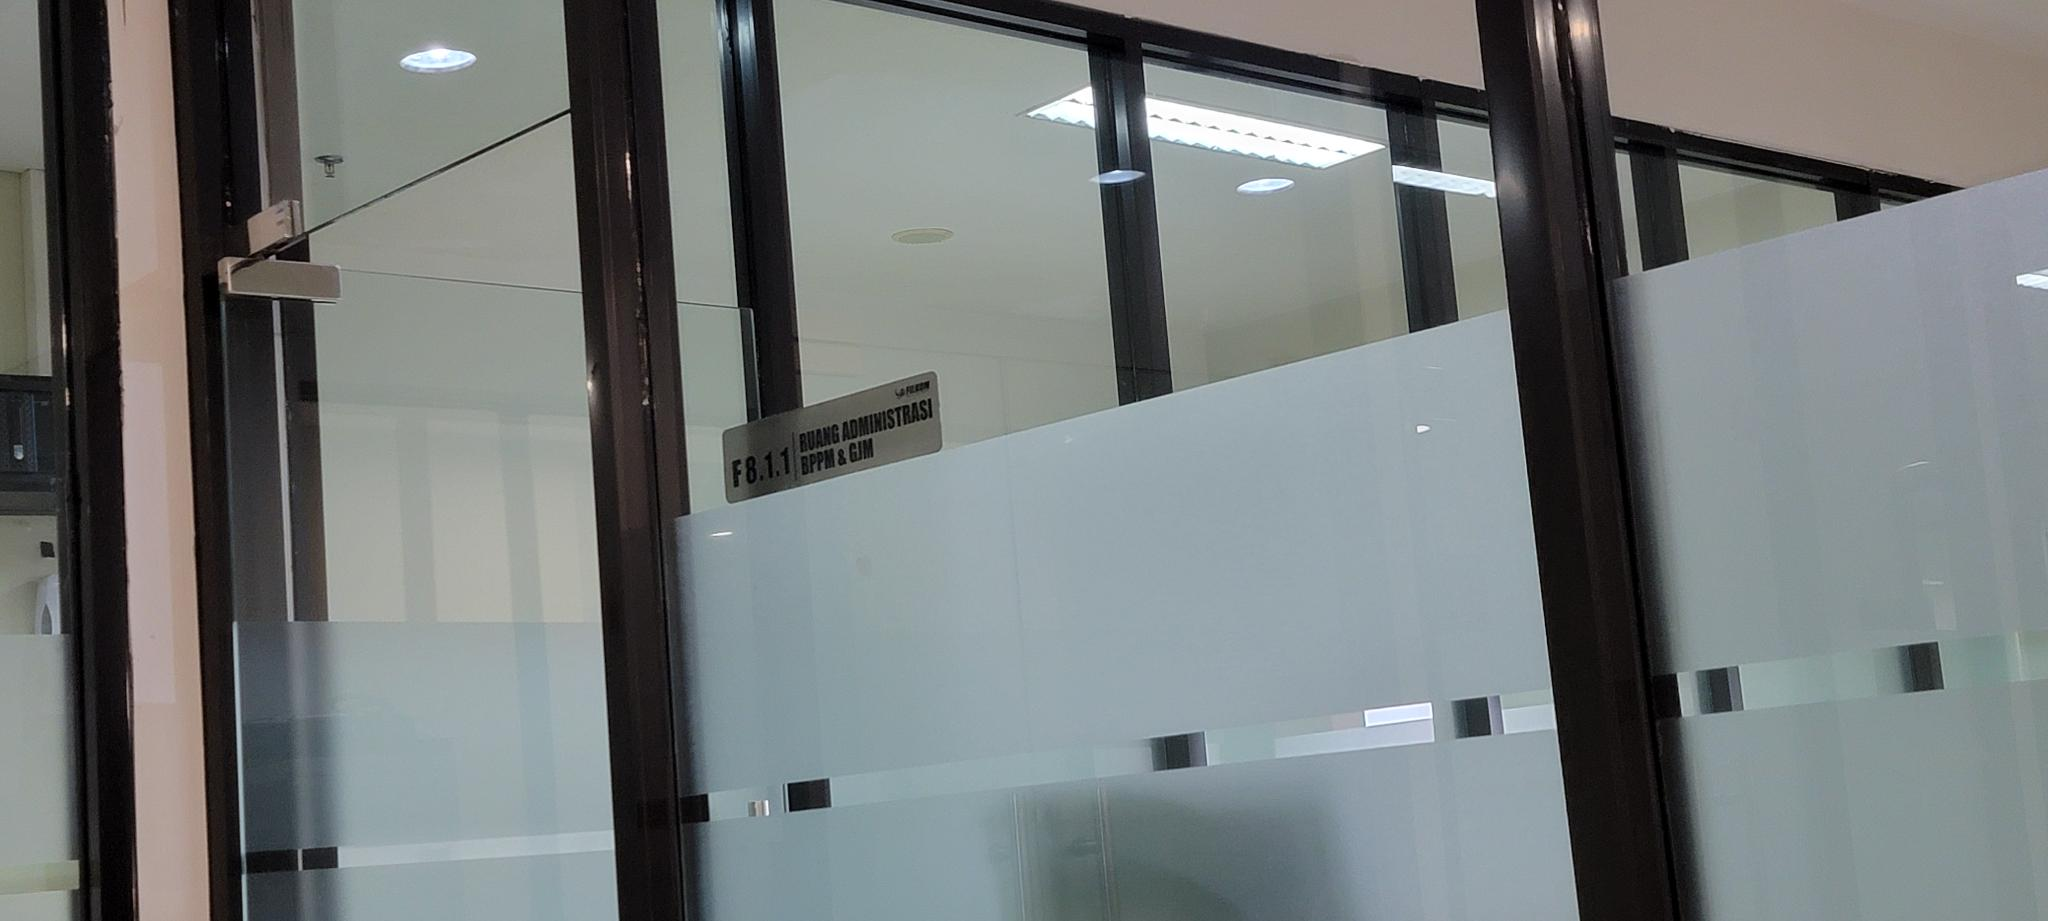plate: (721, 371, 944, 507)
